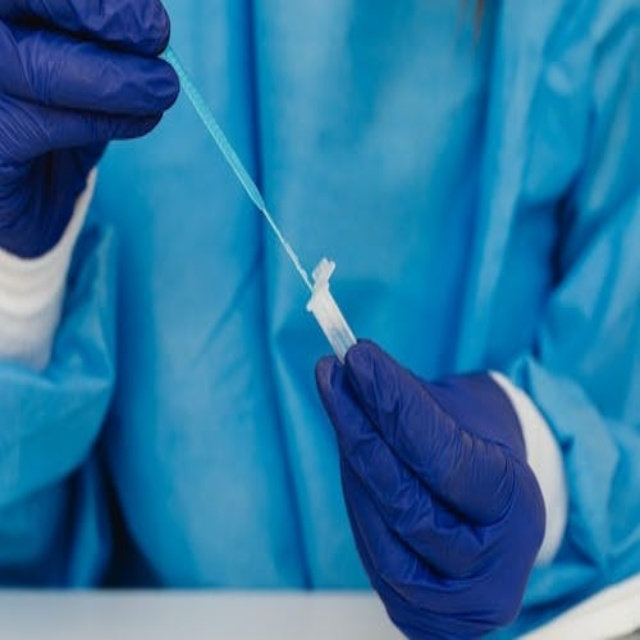Guantes: (318, 333, 549, 640), (0, 0, 178, 264)
